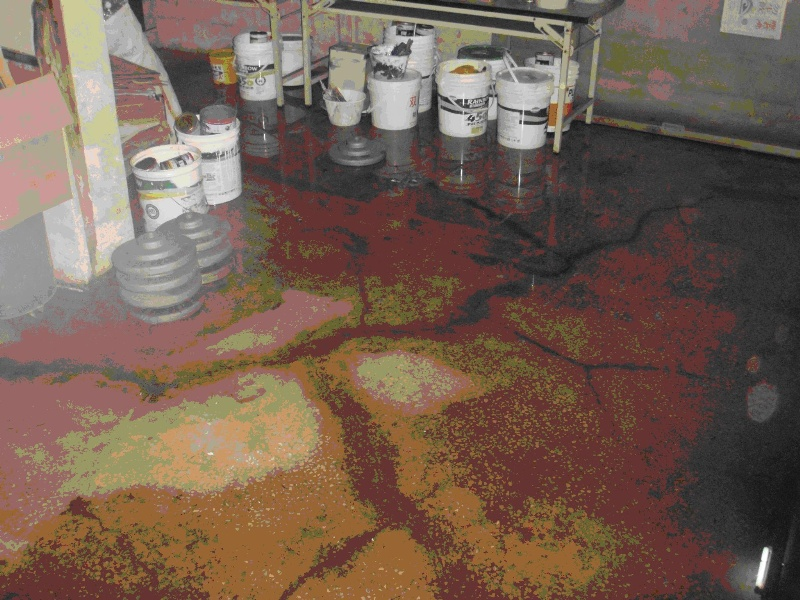bottle: (209, 49, 237, 86)
bucket: (129, 140, 215, 241), (169, 105, 252, 205), (495, 66, 559, 153), (433, 55, 495, 137), (366, 64, 425, 140), (234, 29, 284, 103), (319, 81, 369, 131)
